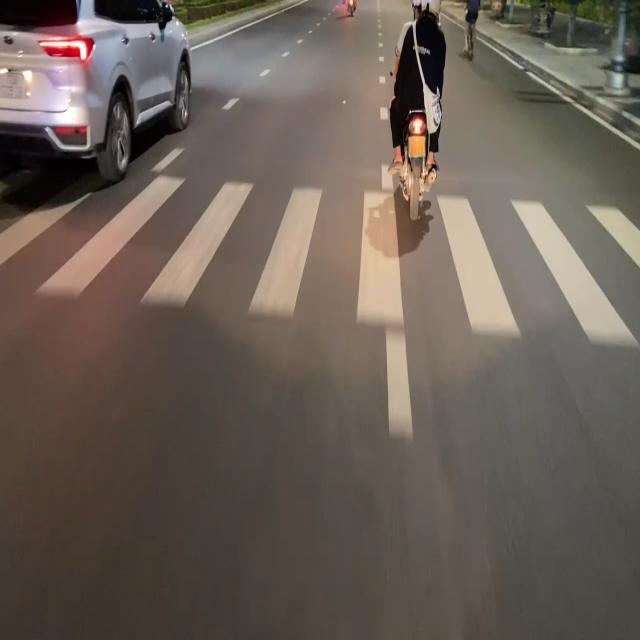walk-crossing: (6, 184, 636, 336)
